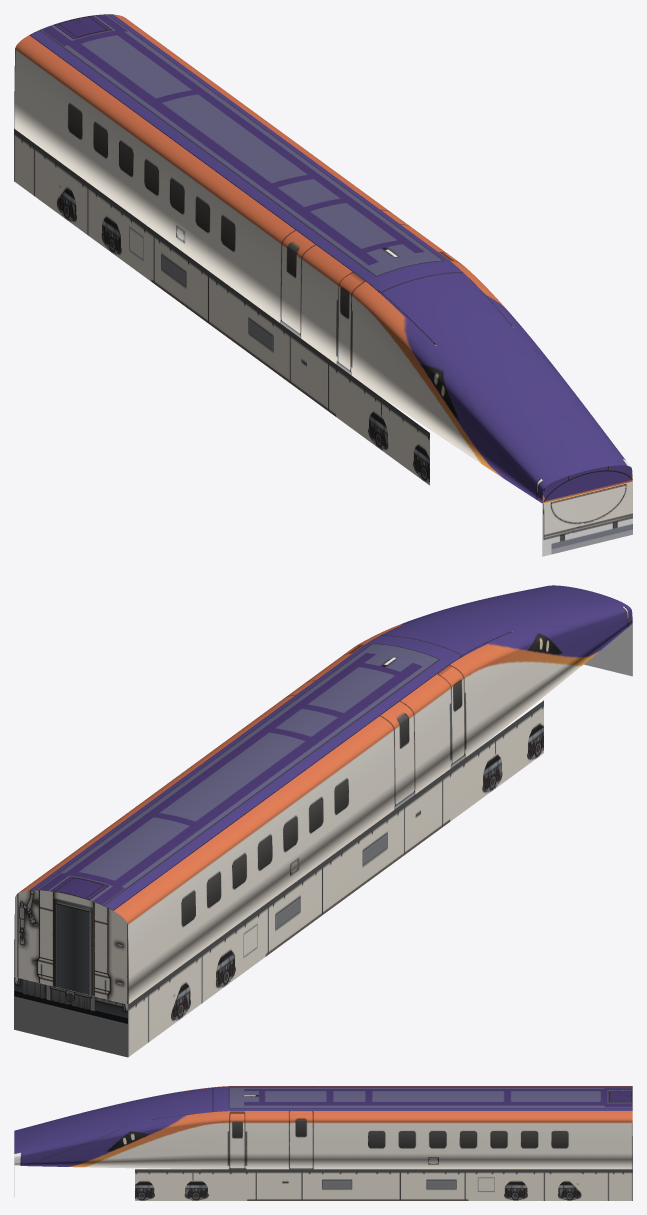
The model's file is car1.glb.
3 renders of one model, top to bottom at view 1: azimuth 30°, elevation 25°; view 2: azimuth 150°, elevation 25°; view 3: azimuth 270°, elevation 25°, orthographic. The views are drawn at different scales.
Visible parts, largest first — view 1: jr-east-e8-car1; view 2: jr-east-e8-car1; view 3: jr-east-e8-car1.
Part boxes in pixels (x1=…): jr-east-e8-car1: x1=14, y1=14, x2=632, y2=556; jr-east-e8-car1: x1=14, y1=585, x2=632, y2=1057; jr-east-e8-car1: x1=14, y1=1086, x2=632, y2=1200.
Size of the model in its own units: 2.94 by 3.65 by 23.1.
Materials: 9 (8 with a texture image).
